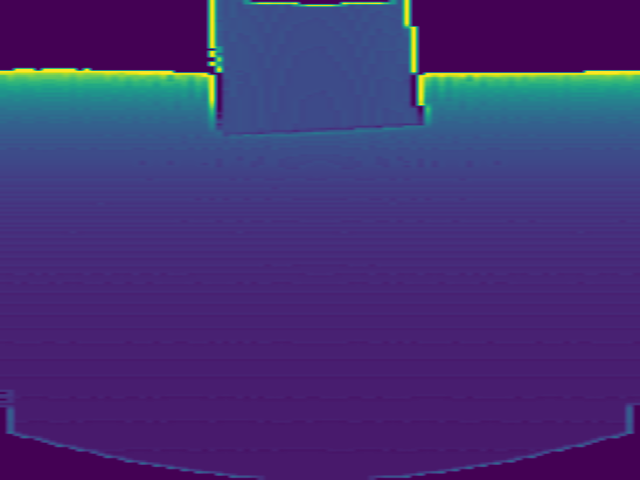cylinder: (204, 1, 427, 134)
